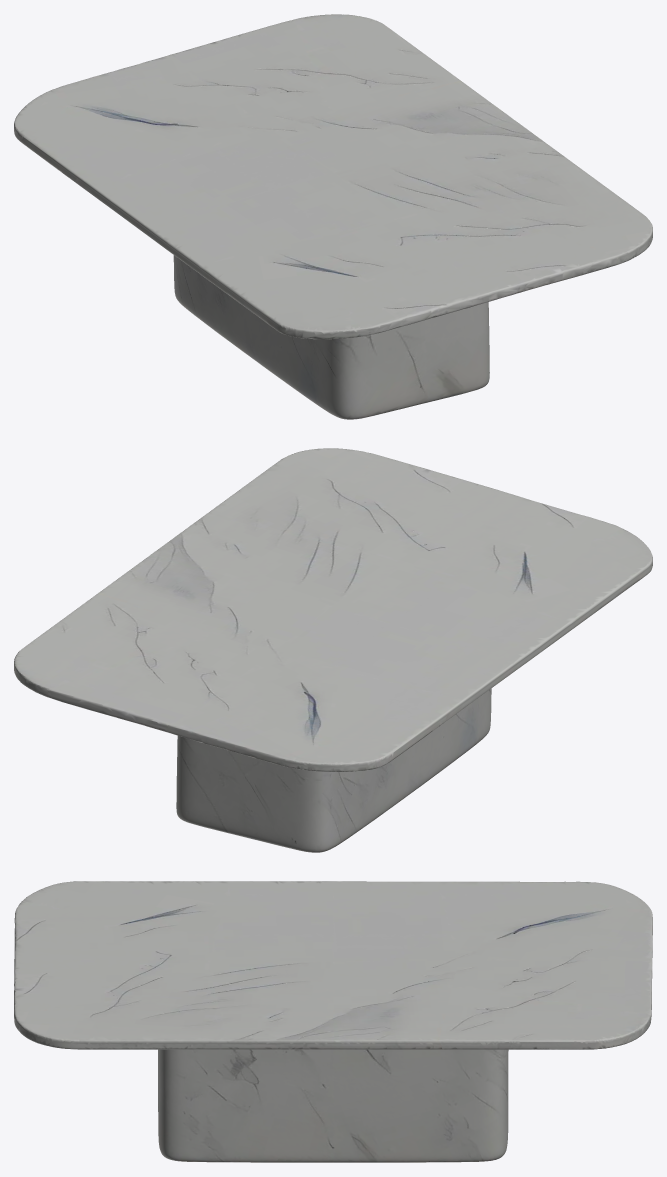
Rendered from table.glb.
The picture shows the model from 3 angles, top to bottom: view 1: azimuth 30°, elevation 25°; view 2: azimuth 150°, elevation 25°; view 3: azimuth 270°, elevation 25°; orthographic projection.
Visible parts, largest first — view 1: tripo_node_a32bfa3f-e443-48af-9c7b-92f6c063b910; view 2: tripo_node_a32bfa3f-e443-48af-9c7b-92f6c063b910; view 3: tripo_node_a32bfa3f-e443-48af-9c7b-92f6c063b910.
Boxes of the visible parts, x1=… form: tripo_node_a32bfa3f-e443-48af-9c7b-92f6c063b910: x1=14, y1=14, x2=652, y2=419; tripo_node_a32bfa3f-e443-48af-9c7b-92f6c063b910: x1=14, y1=448, x2=652, y2=852; tripo_node_a32bfa3f-e443-48af-9c7b-92f6c063b910: x1=14, y1=881, x2=652, y2=1162.
Bounding box in the file's own units: 0.6556 × 0.3001 × 1.
Materials: 1 (1 with a texture image).
